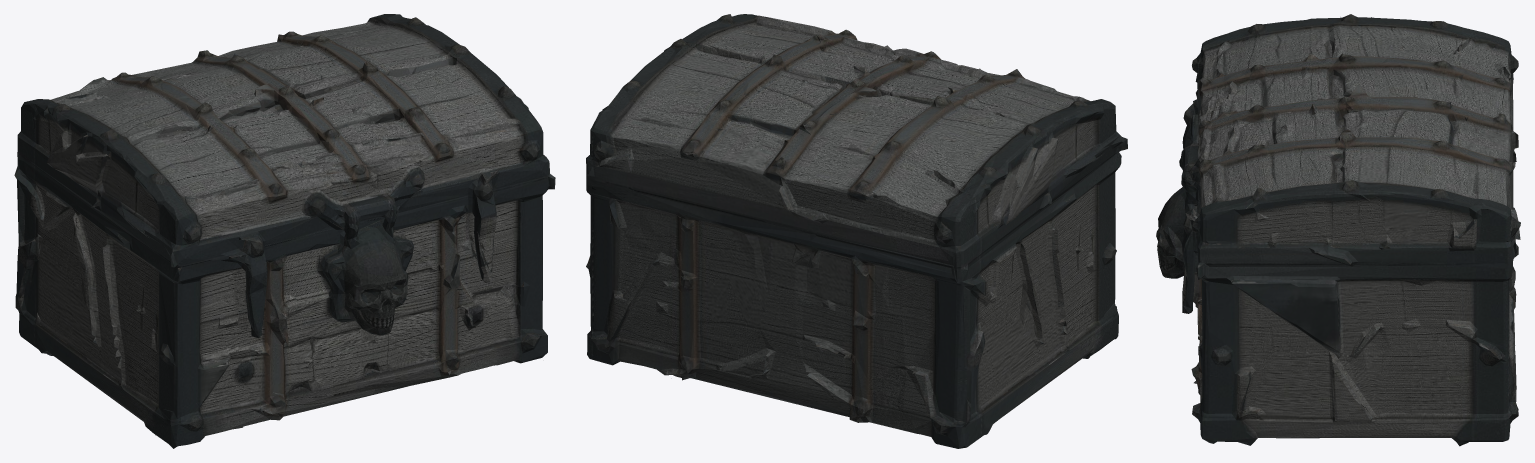
Rendered from chest.glb.
The picture shows the model from 3 angles, left to right: view 1: azimuth 30°, elevation 25°; view 2: azimuth 150°, elevation 25°; view 3: azimuth 270°, elevation 25°; orthographic projection. The views are drawn at different scales.
Parts seen in each view (by area): view 1: lo; view 2: lo; view 3: lo.
Part boxes in pixels (bbox=[...]): lo: bbox=[14, 14, 555, 448]; lo: bbox=[586, 14, 1127, 448]; lo: bbox=[1156, 14, 1520, 446].
Bounding box in the file's own units: 1.02 × 0.6888 × 0.8474.
1 material, 1 textured.
